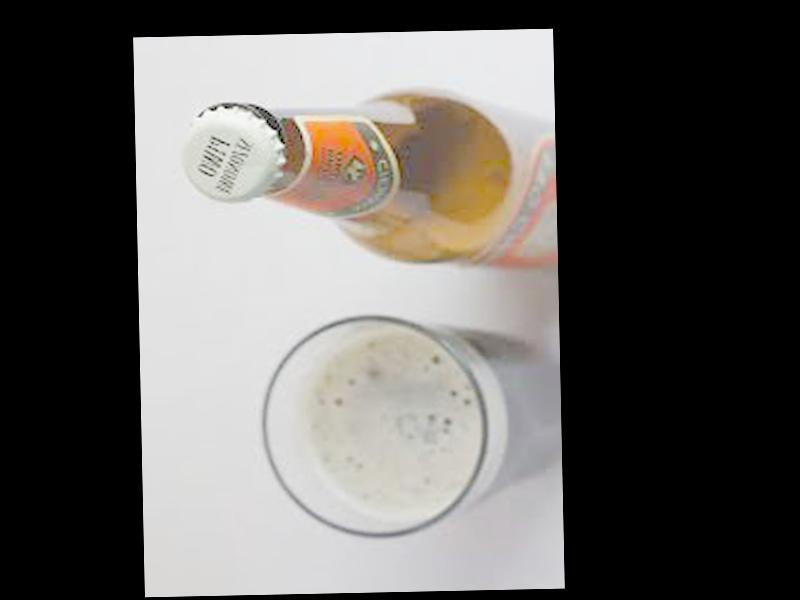Beer: (180, 86, 558, 279)
